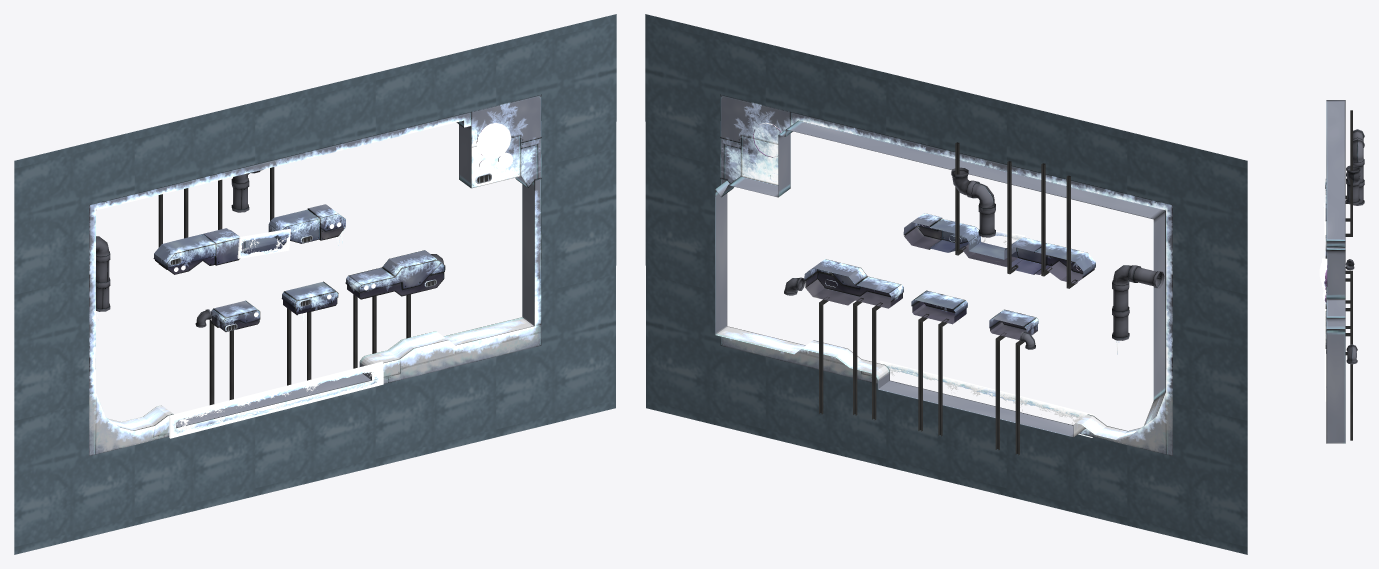
The model's file is FreezerForground.fbx.
3 views of the same model, side by side, from view 1: azimuth 30°, elevation 25°; view 2: azimuth 150°, elevation 25°; view 3: azimuth 270°, elevation 25° (orthographic). The views are drawn at different scales.
Visible parts, largest first — view 1: polySurface30, polySurface34, polySurface32, pSphere1, polySurface33; view 2: polySurface30, polySurface34, polySurface32; view 3: polySurface34, polySurface15, polySurface10, polySurface32, pSphere1, polySurface5, polySurface18.
Boxes of the visible parts, box(x1,y1,x2,y2) form: polySurface30: box(14, 14, 616, 554); polySurface34: box(89, 94, 541, 455); polySurface32: box(169, 361, 383, 438); pSphere1: box(476, 122, 511, 159); polySurface33: box(237, 229, 290, 258); polySurface30: box(645, 14, 1247, 554); polySurface34: box(715, 94, 1172, 455); polySurface32: box(879, 360, 1093, 437); polySurface34: box(1325, 100, 1352, 443); polySurface15: box(1353, 138, 1364, 164); polySurface10: box(1346, 181, 1360, 204); polySurface32: box(1324, 303, 1326, 401); pSphere1: box(1319, 258, 1327, 287); polySurface5: box(1346, 165, 1360, 183); polySurface18: box(1346, 344, 1357, 364).
Size of the model in its own units: 8503 by 5316 by 1371.
